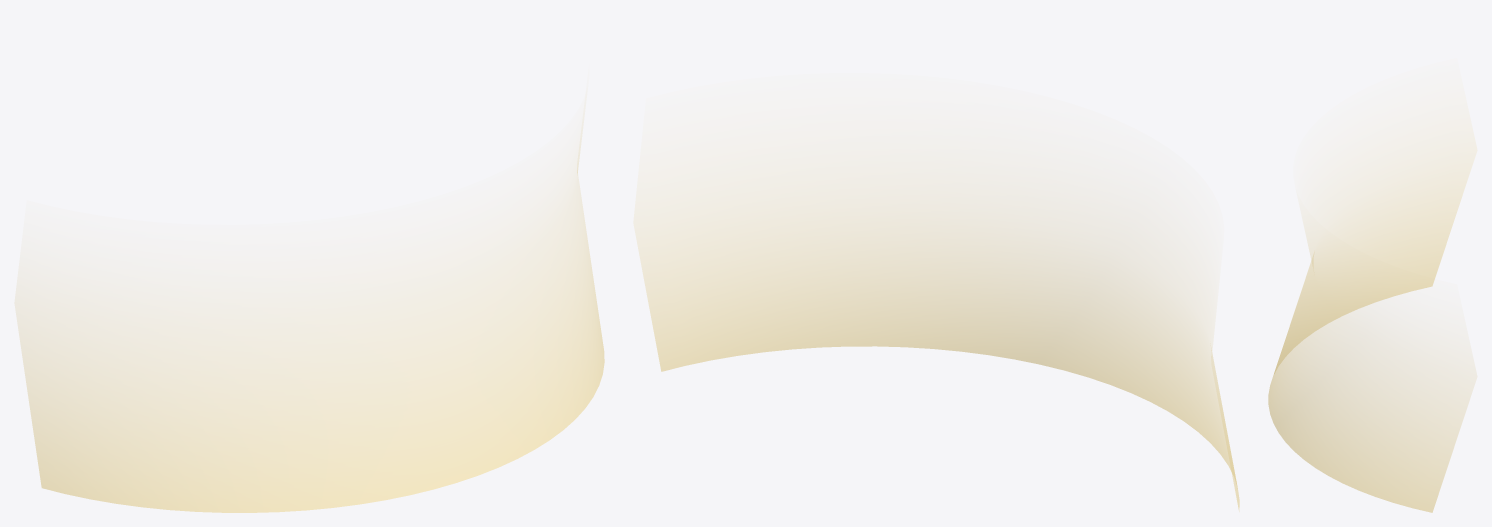
The model's file is fx_wave.glb.
The picture shows the model from 3 angles, left to right: view 1: azimuth 30°, elevation 25°; view 2: azimuth 150°, elevation 25°; view 3: azimuth 270°, elevation 25°; orthographic projection. The views are drawn at different scales.
Visible parts, largest first — view 1: fx_wave; view 2: fx_wave; view 3: fx_wave.
Boxes of the visible parts, left/top/right/bottom form: fx_wave: left=15, top=116, right=604, bottom=512; fx_wave: left=634, top=170, right=1239, bottom=511; fx_wave: left=1268, top=130, right=1476, bottom=512.
Size of the model in its own units: 1.78 by 1 by 0.6957.
1 material, 1 textured.
